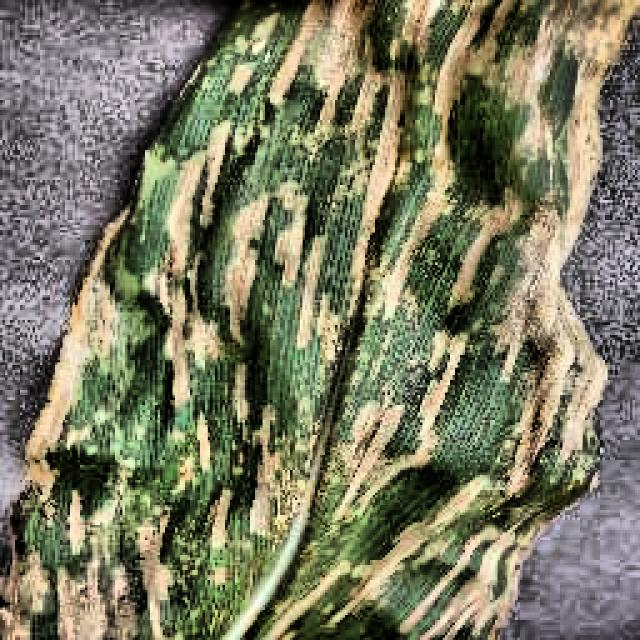gray_spot: (12, 0, 618, 640)
